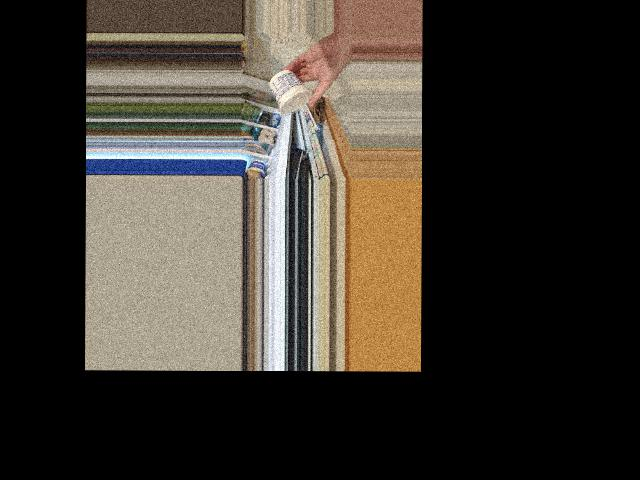cotage: (272, 68, 310, 116)
